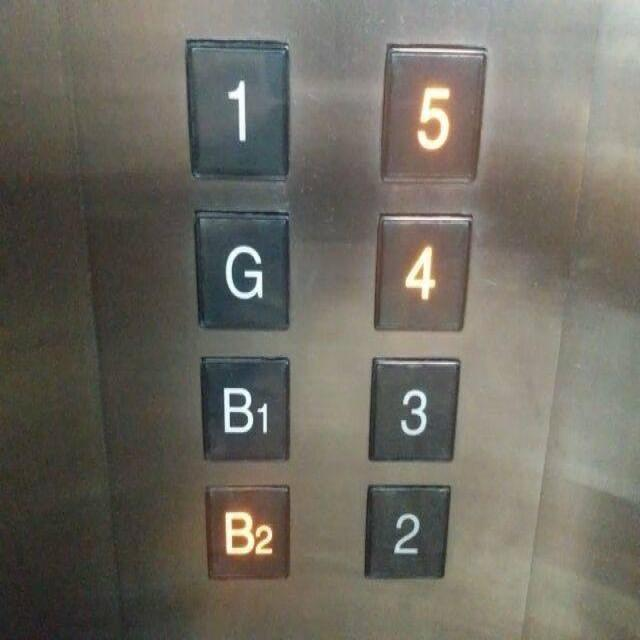1: (180, 33, 293, 184)
2: (360, 477, 454, 584)
3: (363, 348, 462, 468)
4: (370, 204, 475, 336)
5: (375, 37, 490, 188)
B1: (194, 351, 292, 465)
B2: (200, 477, 294, 584)
G: (188, 201, 293, 336)
